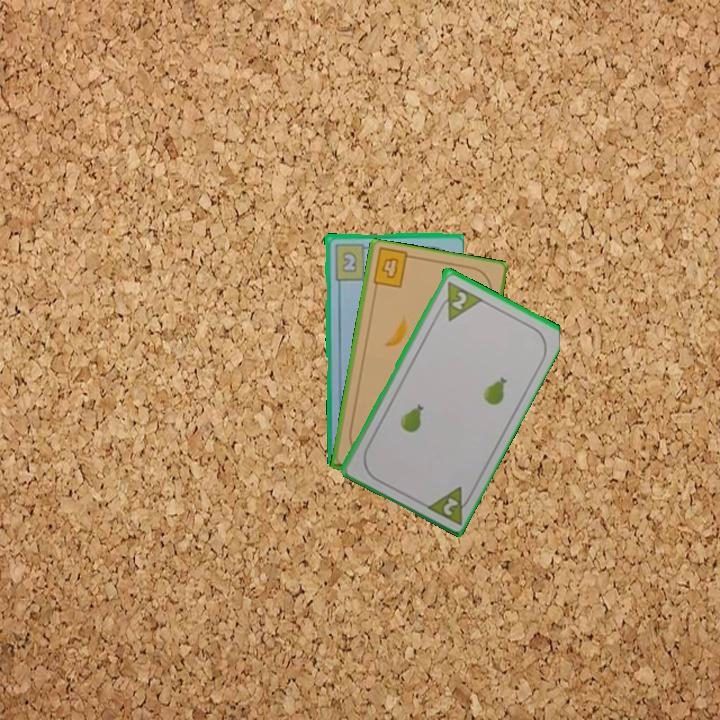2b: (331, 240, 373, 282)
2p: (421, 482, 476, 527), (433, 277, 484, 323)
4b: (377, 253, 401, 281)
